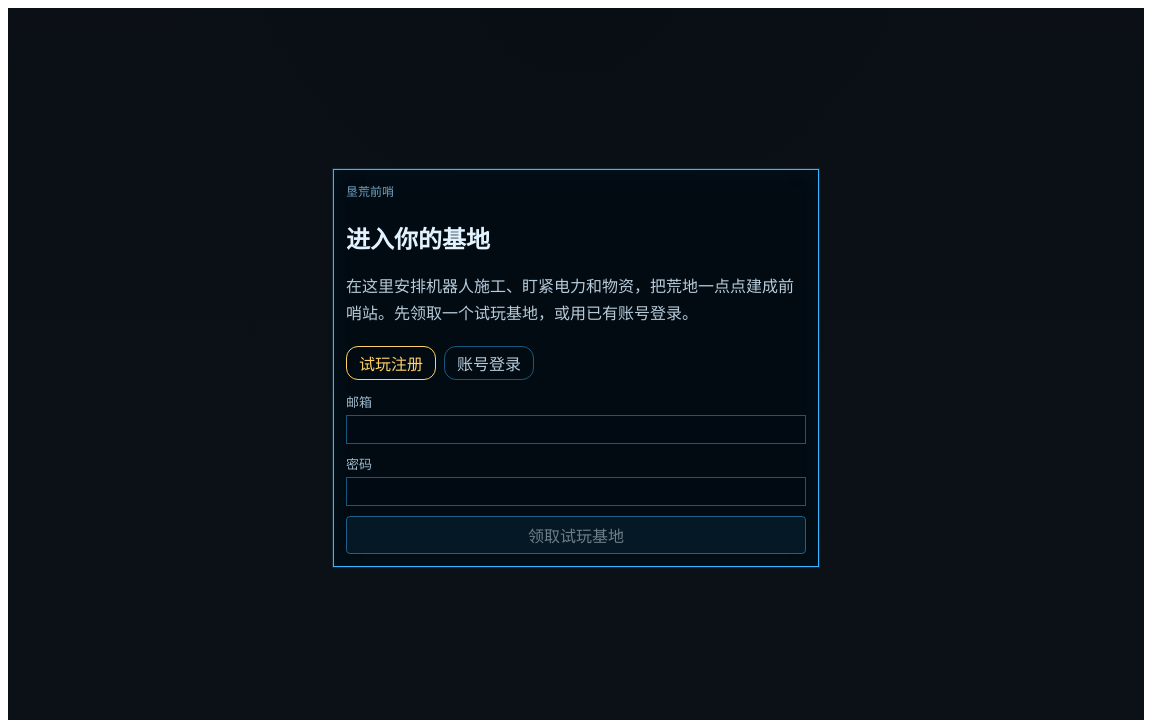
BaseApp > 退出后不残留凭据（B006） › 登录失败时保留已输入的邮箱与密码，便于直接改正重试
Step 1. Click the tab "账号登录" → coordinates (489, 363), box [444,346,534,380]
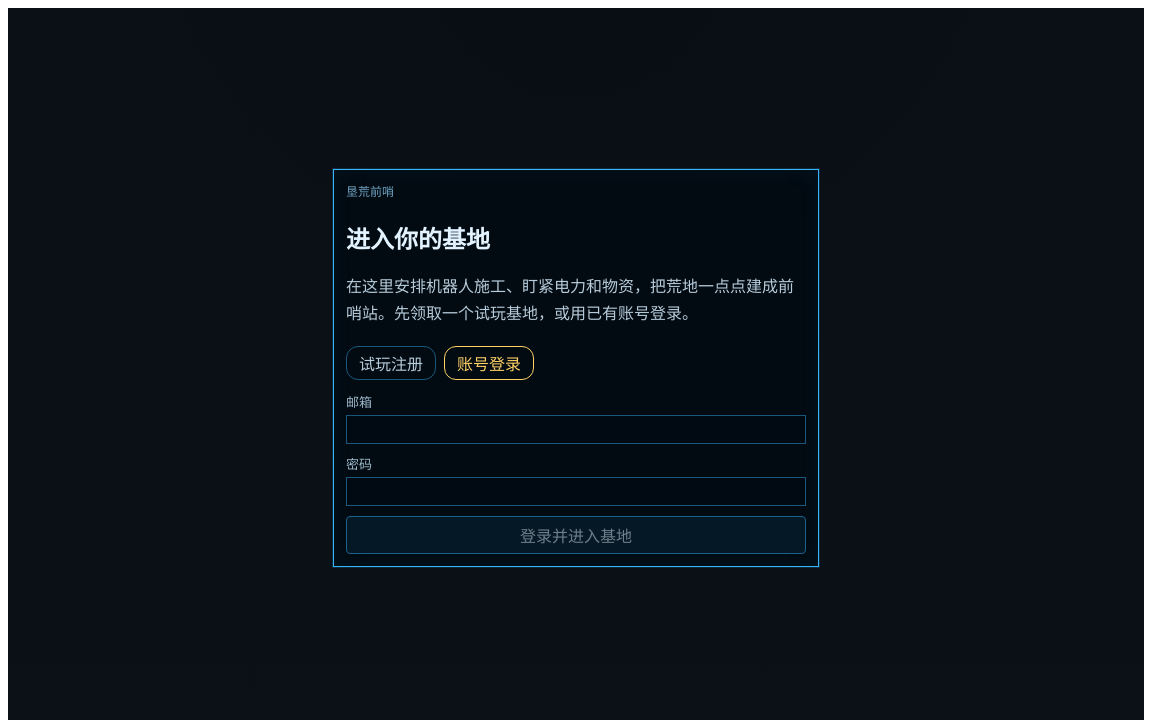
Step 2. Type "p@e.test" into the field labelled "邮箱" → coordinates (576, 429), box [346,415,806,444]
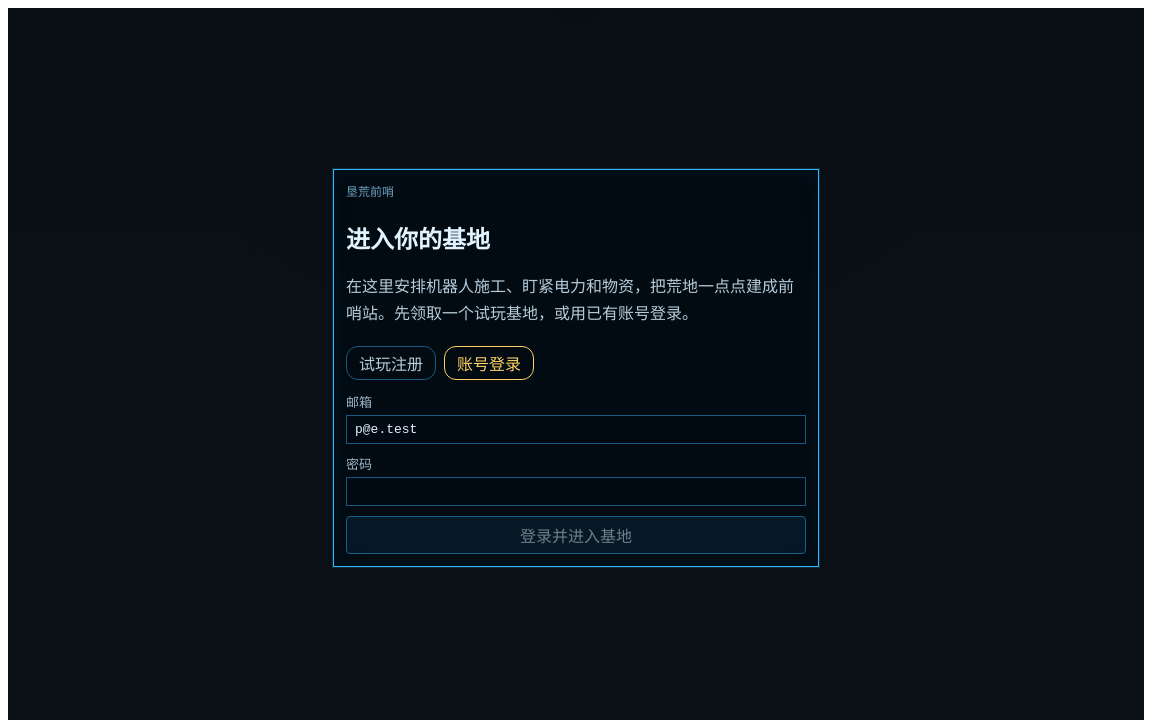
Step 3. Type "wrong-password" into the password field labelled "密码" → coordinates (576, 491), box [346,477,806,506]
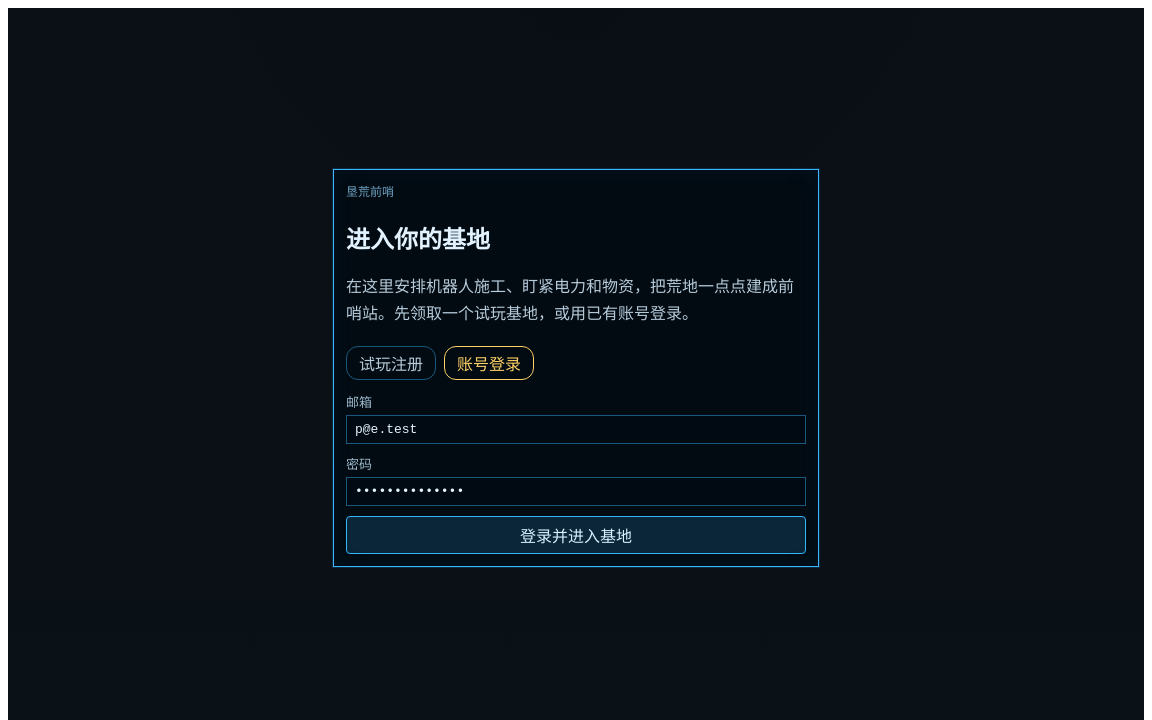
Step 4. Click the button "登录并进入基地" → coordinates (576, 535), box [346,516,806,554]
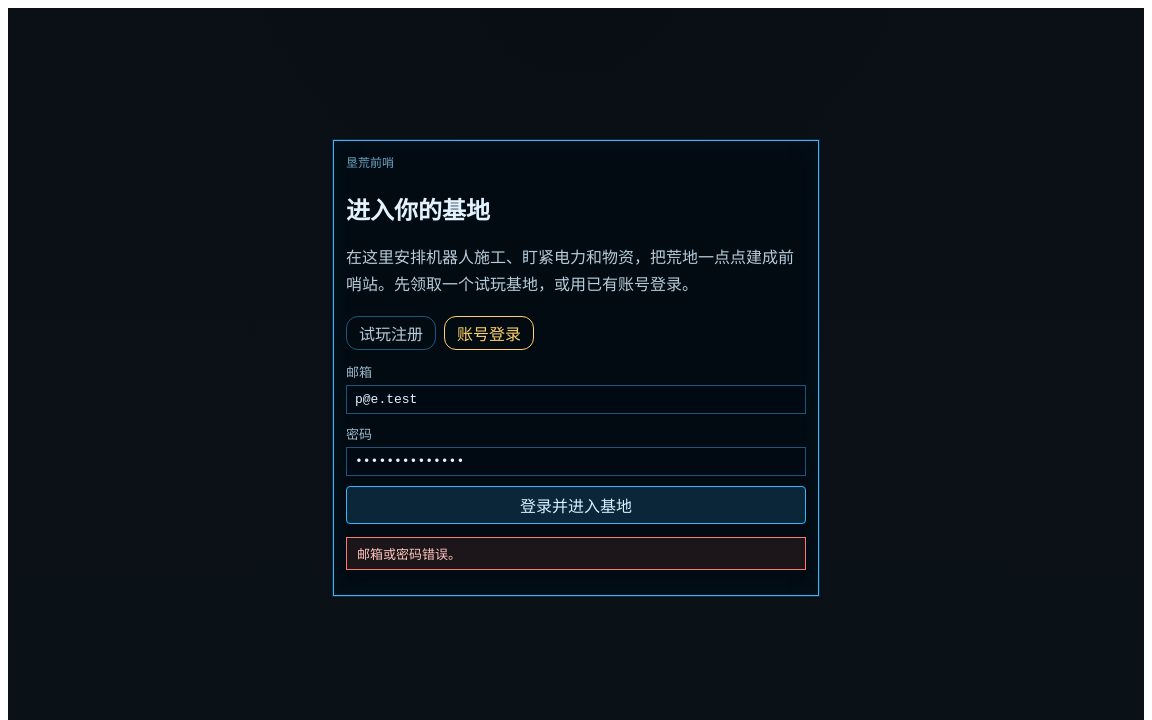
Expected: the message "邮箱或密码错误。" is shown, [346,537,806,570]
